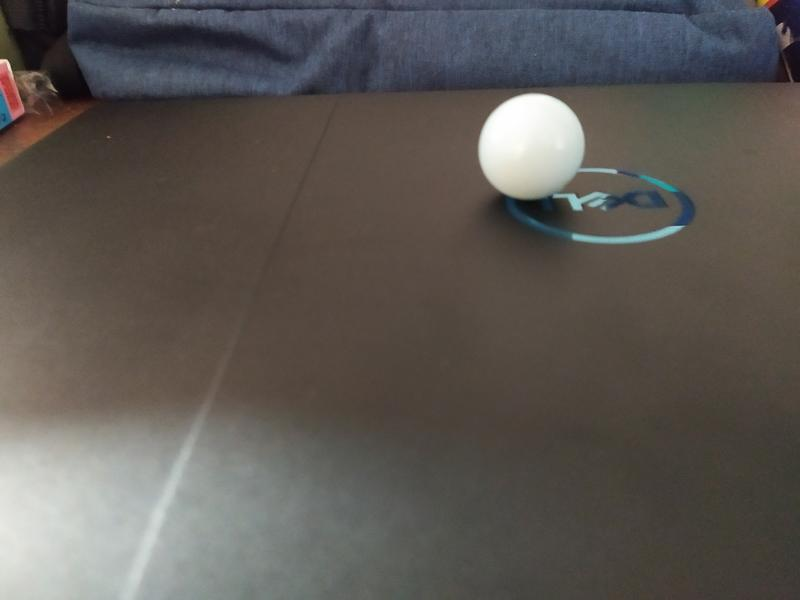Warning: (475, 90, 589, 203)
